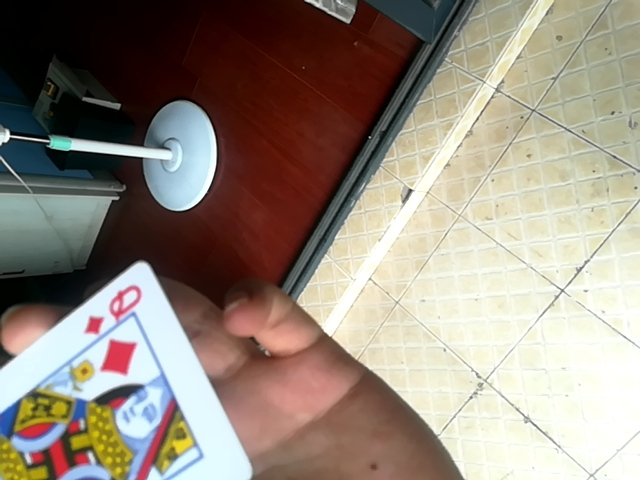fk q: (0, 260, 259, 480)
